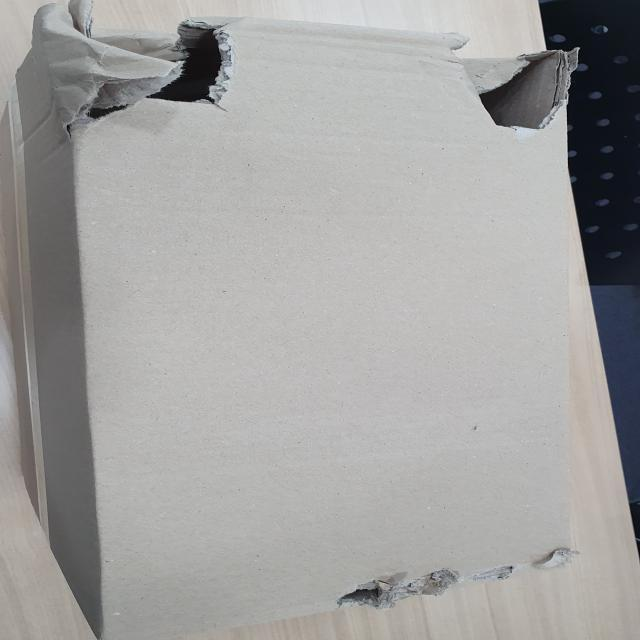hole: (61, 15, 238, 124), (441, 40, 577, 131), (334, 573, 408, 607)
